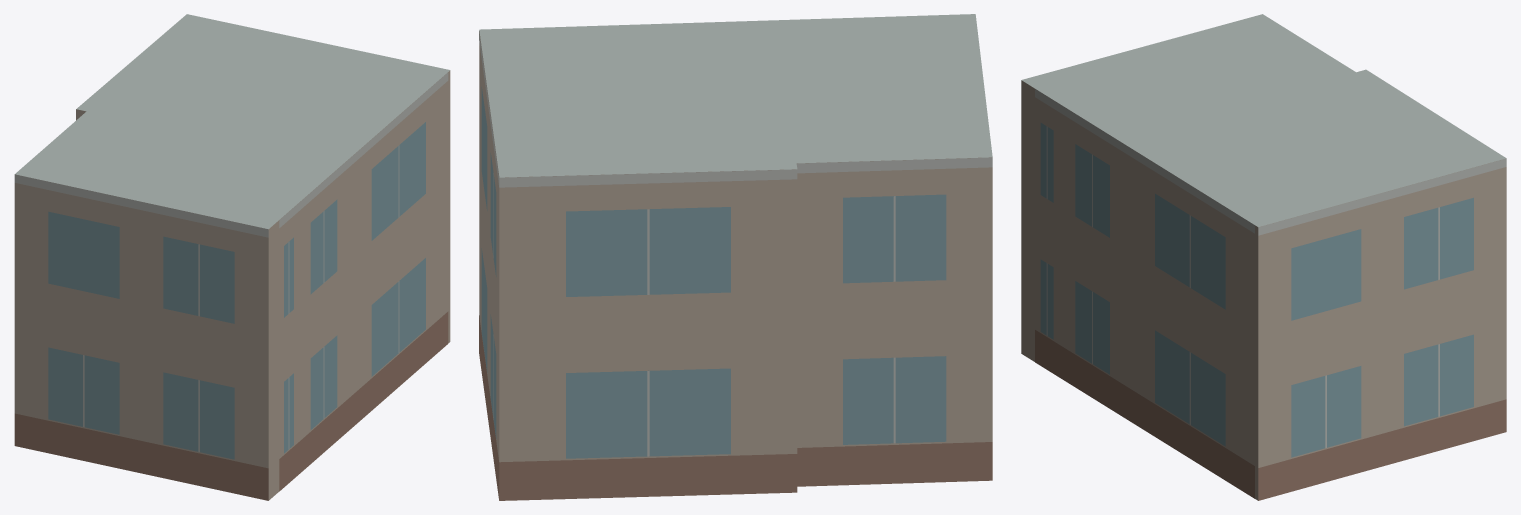
File: survey-upis-32730969.glb
3 views of the same model, side by side, from view 1: azimuth 30°, elevation 25°; view 2: azimuth 150°, elevation 25°; view 3: azimuth 270°, elevation 25° (orthographic). The views are drawn at different scales.
Parts seen in each view (by area): view 1: survey-upis-32730969.tmp; view 2: survey-upis-32730969.tmp; view 3: survey-upis-32730969.tmp.
Part boxes in pixels (x1,y1,x2,y2): survey-upis-32730969.tmp: (14, 14, 450, 500); survey-upis-32730969.tmp: (479, 14, 992, 500); survey-upis-32730969.tmp: (1021, 14, 1506, 500).
Bounding box in the file's own units: 13.13 × 7.85 × 12.63.
